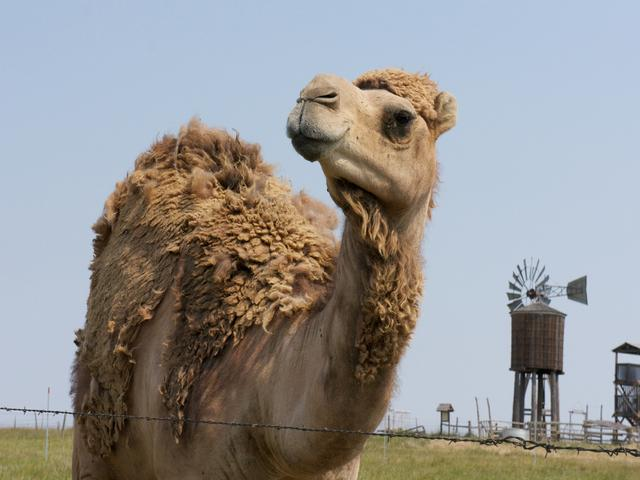camel: (44, 58, 475, 471)
